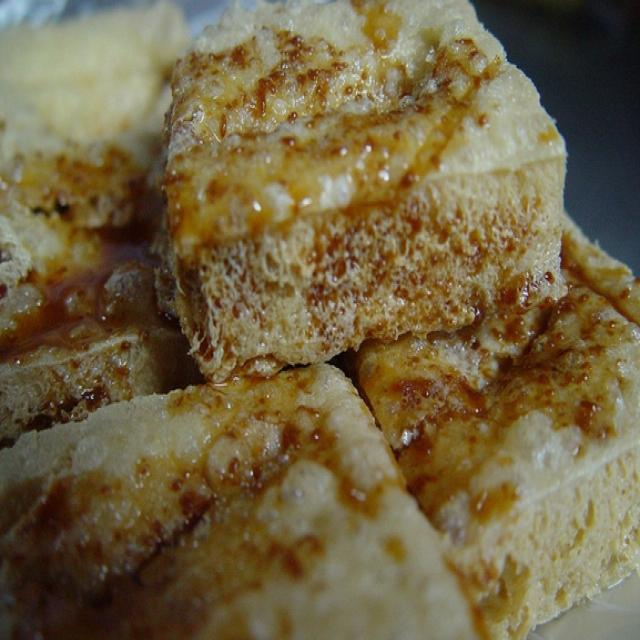豆腐料理: (6, 8, 631, 628)
